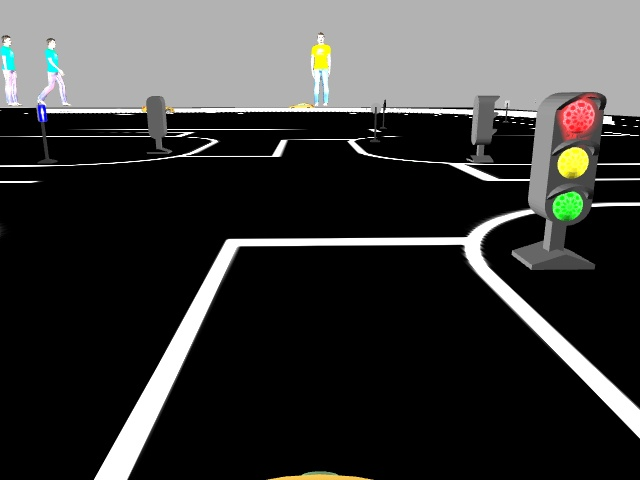TrafficLight: (528, 86, 604, 228)
